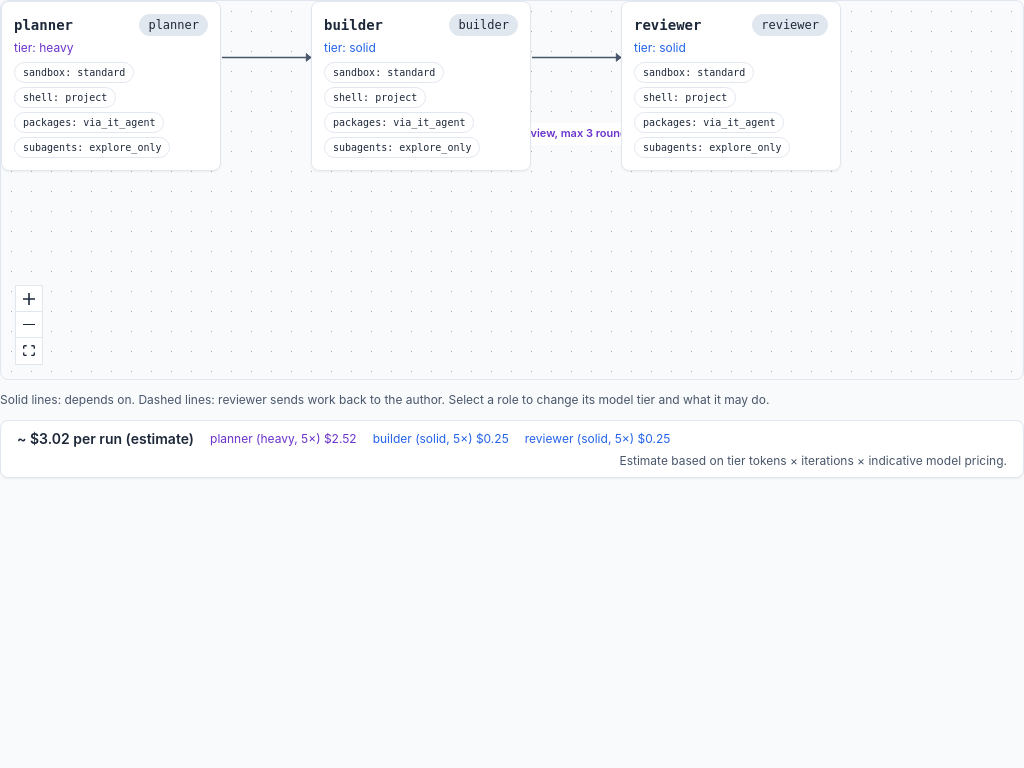
Test: TeamGraph › explains each toggle in plain language on focus
Click the element with test id "team-node-builder" at x=421, y=86, box 311,1 -> 531,171
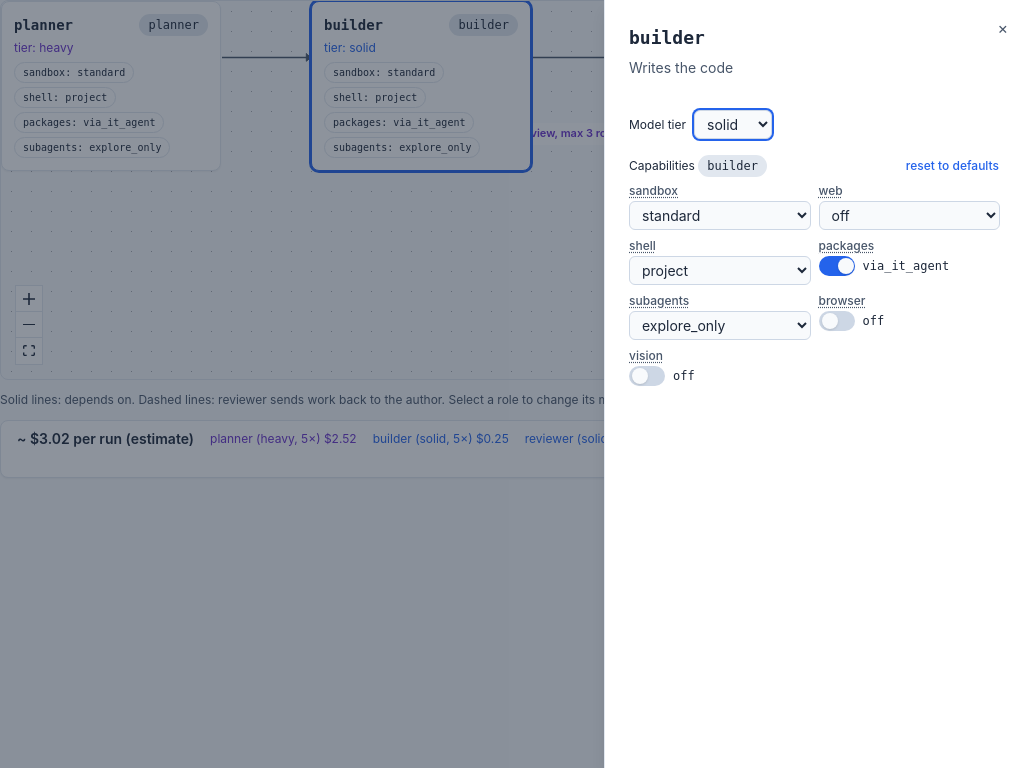
Focus the text with test id "toggle-label-builder-web" at x=831, y=191, box 818,183 -> 843,199
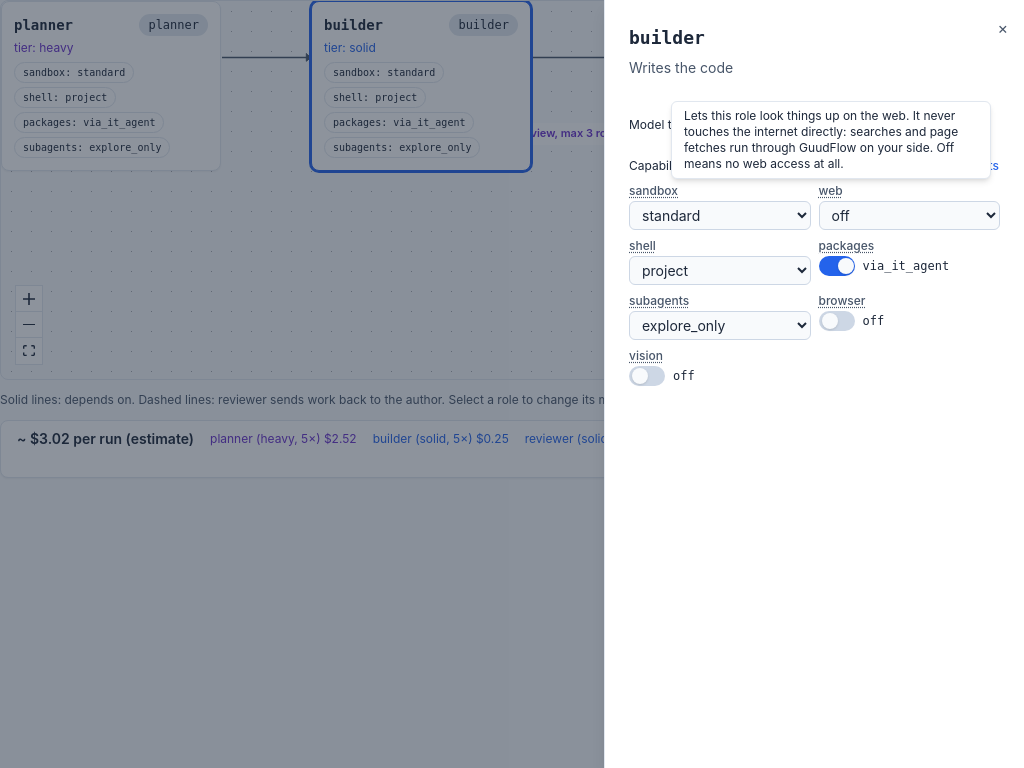
Check: the tooltip "Lets this role look things up on the web" is shown, box 684,108 -> 958,171
